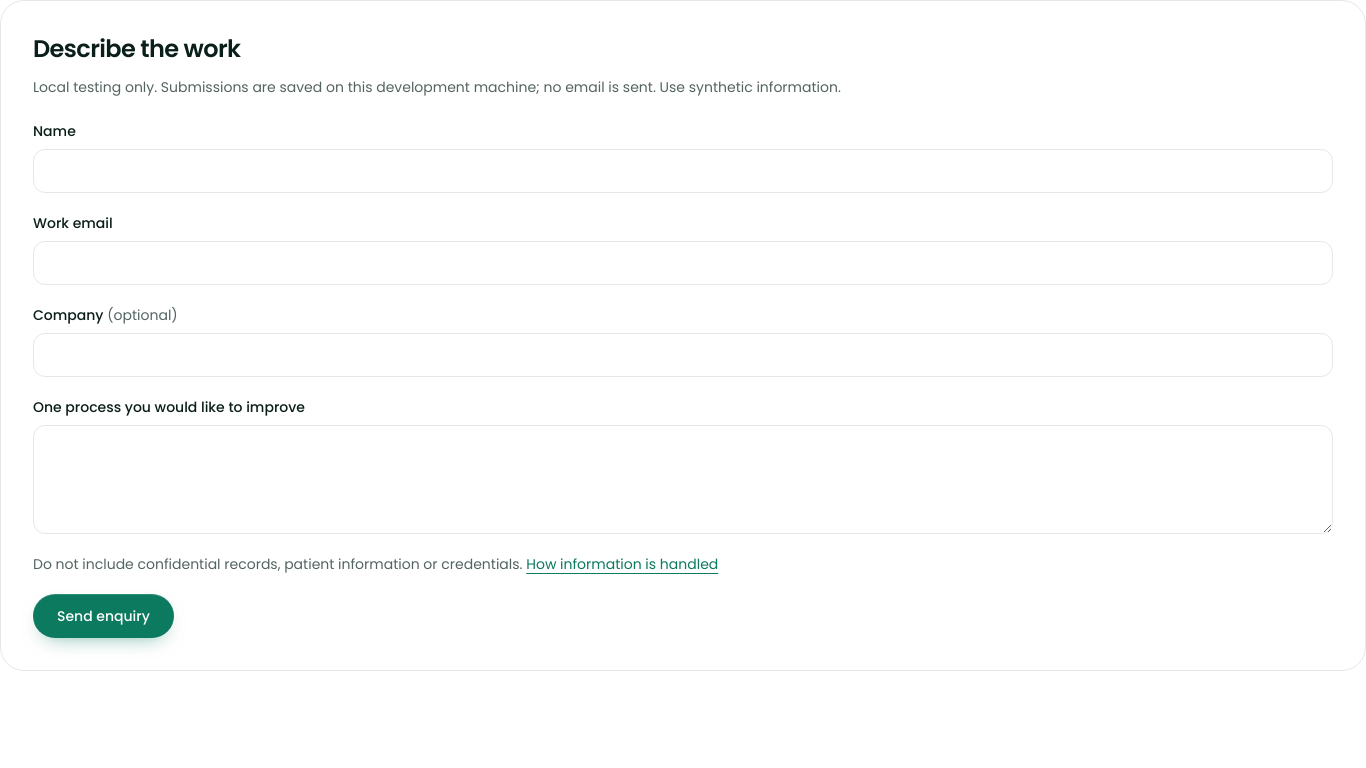
Test: contact flow › confirms only acknowledged local saves and never claims an email was sent
Type "Test user" into the field labelled "Name" at (683, 171), box [33,149,1333,193]
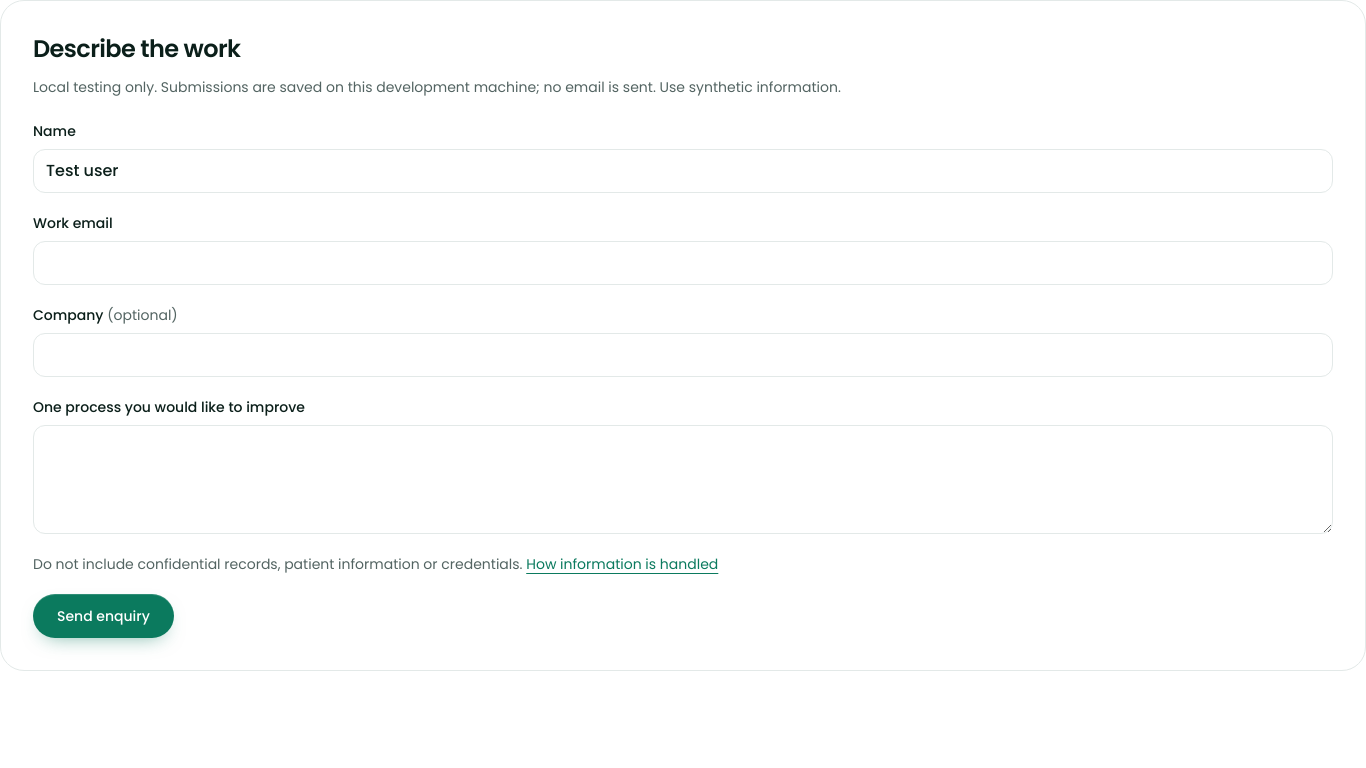
Type "test@example.invalid" into the field labelled "Work email" at (683, 263), box [33,241,1333,285]
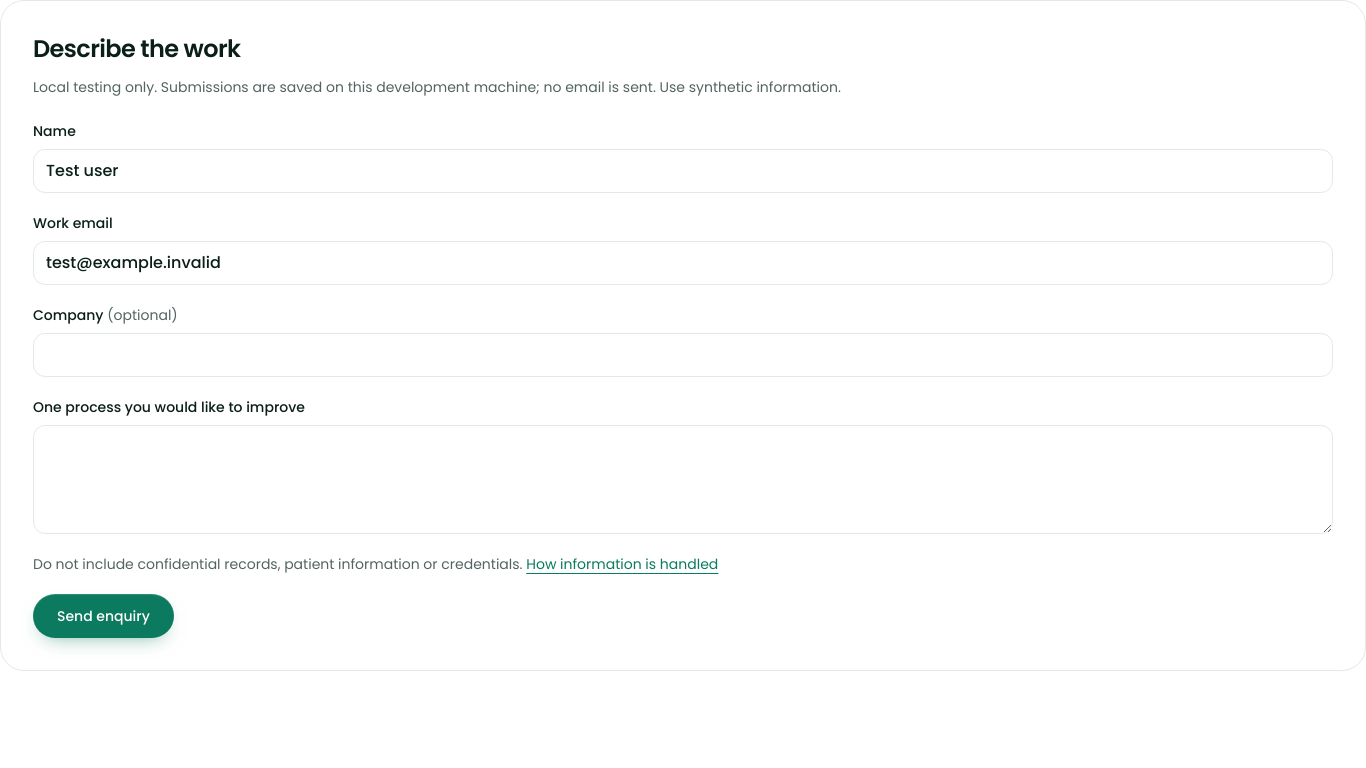
Type "Synthetic workflow" into the text box labelled "One process you would like to improve" at (683, 480), box [33,425,1333,534]
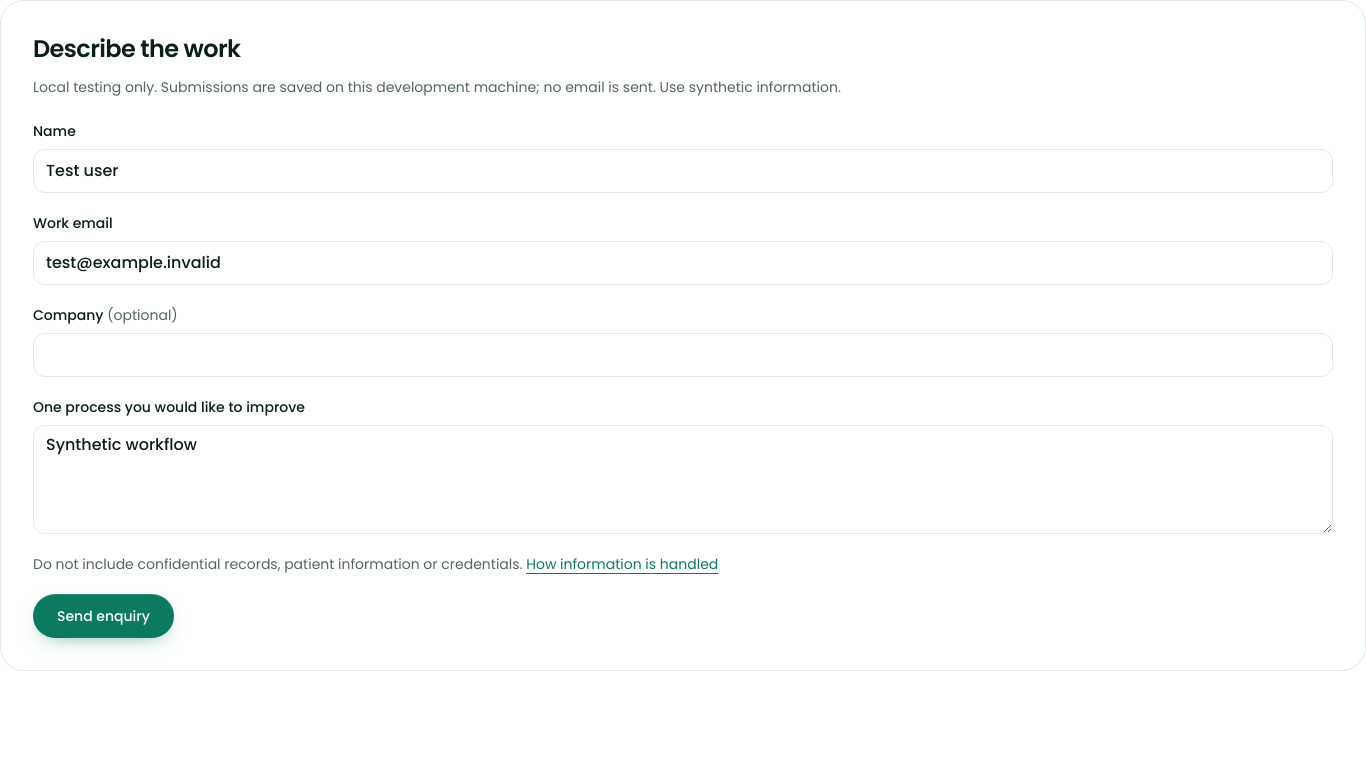
Submit the form
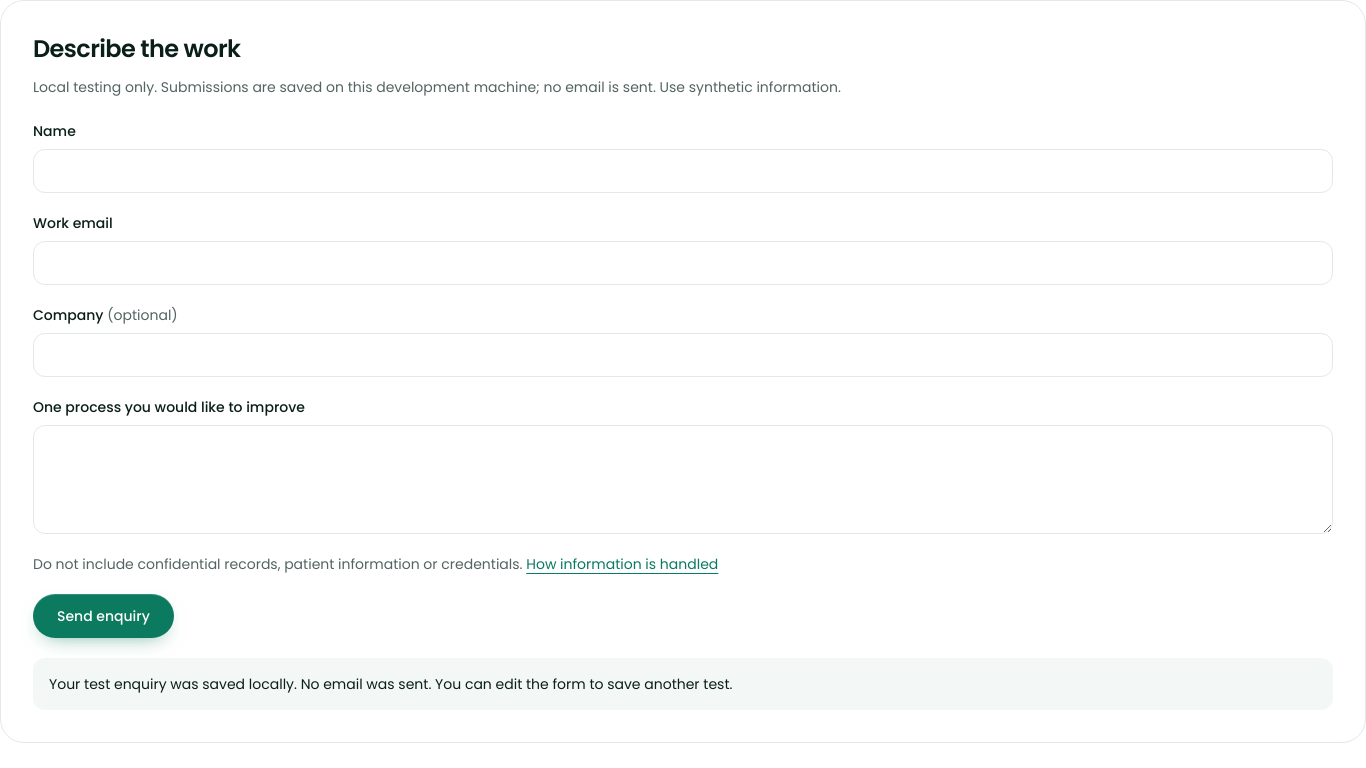
Now the message shows "No email was sent", box [49,674,732,694]
Now the field labelled "Name" is empty, box [33,149,1333,193]
